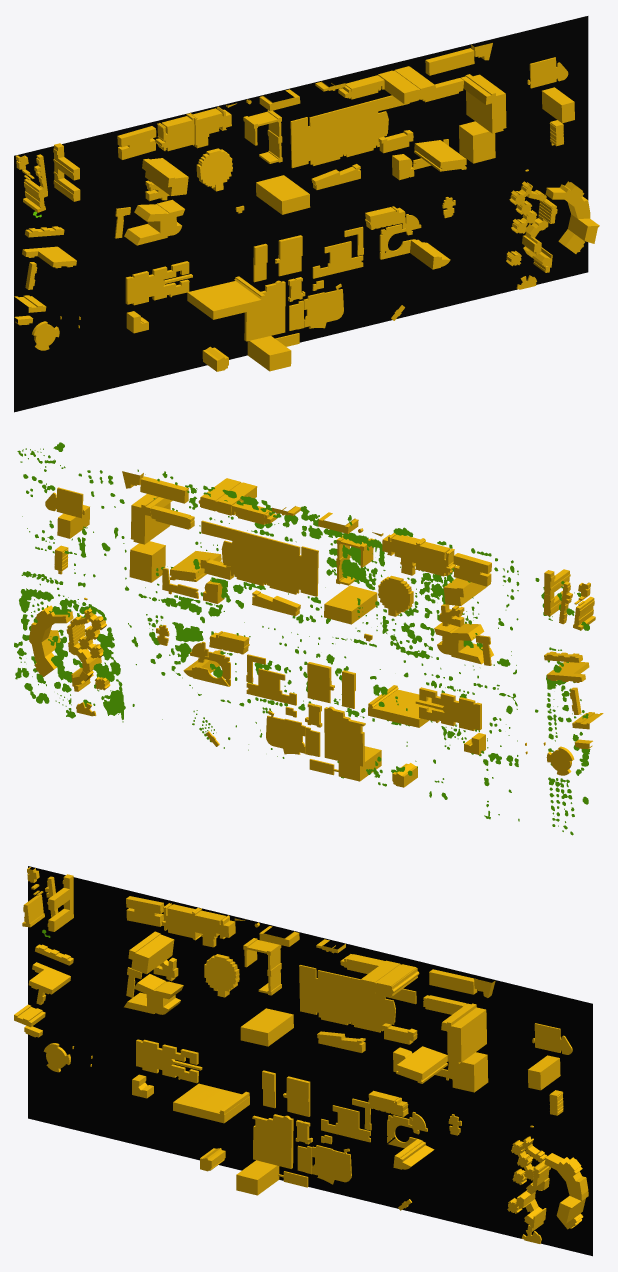
File: existing_buildings_03.glb
3 renders of one model, top to bottom at view 1: azimuth 30°, elevation 25°; view 2: azimuth 150°, elevation 25°; view 3: azimuth 330°, elevation 25°, orthographic.
Parts seen in each view (by area): view 1: Layer 04, existing_building - Copy, existing_building; view 2: existing_building - Copy, existing_building, treesurface; view 3: Layer 04, existing_building - Copy, existing_building.
Boxes of the visible parts, <box> form: Layer 04: <box>14,16,588,412</box>; existing_building - Copy: <box>14,43,590,350</box>; existing_building: <box>14,66,599,371</box>; existing_building - Copy: <box>29,471,592,775</box>; existing_building: <box>30,478,603,787</box>; treesurface: <box>14,442,590,835</box>; Layer 04: <box>28,866,592,1256</box>; existing_building - Copy: <box>24,867,588,1243</box>; existing_building: <box>14,884,585,1232</box>.
Bounding box in the file's own units: 1015 × 458 × 78.19.
